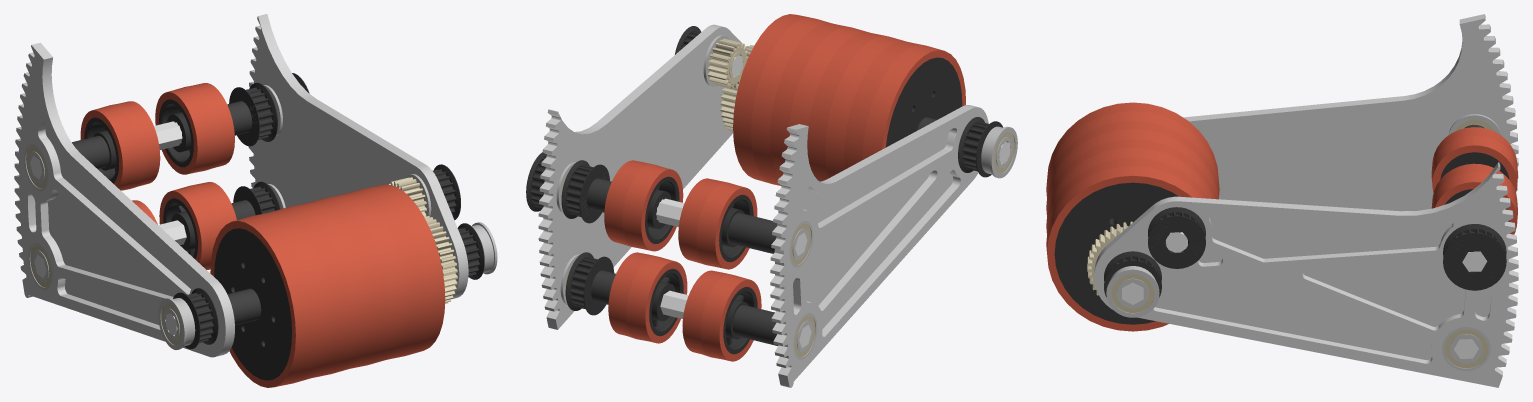
The picture shows the model from 3 angles, left to right: view 1: azimuth 30°, elevation 25°; view 2: azimuth 150°, elevation 25°; view 3: azimuth 270°, elevation 25°; orthographic projection.
Parts seen in each view (by area): view 1: 4" Stealth Wheel (40A, 1/2" Hex Bore) (×4), Left Shooter Moving Plate, Right Shooter Moving Plate, 2" Stealth Wheel (40A, 1/2" Hex Bore) (×3), 1/2" Hex Bore Bearing (1.125" OD, 0.313" WD, Shielded, Flang (×4), 19t Custom HTD 5mm Pulley (0.375" Wide, *0.5" Hex Bore) (×3), 20t Custom HTD 5mm Pulley (0.375" Wide, *0.5" Hex Bore) (×2), 40t Aluminum Spur Gear (20 DP, 1/2" Hex Bore), 1/2" Hex Bore Custom Spacer (0.75" OD,0.938" L), 1/2" Hex (7" L, 7075 Aluminum), 1/2" Hex Bore Custom Spacer (0.75" OD,1.438" L), 1/2" Hex Bore Custom Spacer (0.75" OD,0.813" L) (+2 smaller); view 2: Left Shooter Moving Plate, 4" Stealth Wheel (40A, 1/2" Hex Bore) (×4), 2" Stealth Wheel (40A, 1/2" Hex Bore) (×4), Right Shooter Moving Plate, 20t Custom HTD 5mm Pulley (0.375" Wide, *0.5" Hex Bore) (×2), 1/2" Hex Bore Custom Spacer (0.75" OD,1.438" L) (×2), 1/2" Hex Bore Bearing (1.125" OD, 0.313" WD, Shielded, Flang (×3), 19t Custom HTD 5mm Pulley (0.375" Wide, *0.5" Hex Bore), 20t Aluminum Spur Gear (20 DP, 1/2" Hex Bore), 1/2" Hex Bore Custom Spacer (0.75" OD,0.813" L) (×2), 1/2" Hex (7" L, 7075 Aluminum), 1/2" Hex (6.5" L, 7075 Aluminum) (+2 smaller); view 3: Right Shooter Moving Plate, Left Shooter Moving Plate, 4" Stealth Wheel (40A, 1/2" Hex Bore) (×4), 2" Stealth Wheel (40A, 1/2" Hex Bore) (×2), 1/2" Hex Bore Bearing (1.125" OD, 0.313" WD, Shielded, Flang (×3), 19t Custom HTD 5mm Pulley (0.375" Wide, *0.5" Hex Bore) (×2), 21t Custom HTD 5mm Pulley (0.375" Wide, 1/2" Hex Bore w/ TTB, 40t Aluminum Spur Gear (20 DP, 1/2" Hex Bore).
Boxes of the visible parts, bbox=[...] form: 4" Stealth Wheel (40A, 1/2" Hex Bore) (×4): bbox=[210, 184, 445, 387]; Left Shooter Moving Plate: bbox=[14, 42, 234, 357]; Right Shooter Moving Plate: bbox=[248, 14, 468, 299]; 2" Stealth Wheel (40A, 1/2" Hex Bore) (×3): bbox=[80, 83, 236, 269]; 1/2" Hex Bore Bearing (1.125" OD, 0.313" WD, Shielded, Flang (×4): bbox=[24, 144, 497, 349]; 19t Custom HTD 5mm Pulley (0.375" Wide, *0.5" Hex Bore) (×3): bbox=[173, 164, 484, 349]; 20t Custom HTD 5mm Pulley (0.375" Wide, *0.5" Hex Bore) (×2): bbox=[229, 82, 280, 214]; 40t Aluminum Spur Gear (20 DP, 1/2" Hex Bore): bbox=[424, 215, 457, 303]; 1/2" Hex Bore Custom Spacer (0.75" OD,0.938" L): bbox=[227, 288, 261, 325]; 1/2" Hex (7" L, 7075 Aluminum): bbox=[30, 121, 182, 179]; 1/2" Hex Bore Custom Spacer (0.75" OD,1.438" L): bbox=[72, 136, 109, 168]; 1/2" Hex Bore Custom Spacer (0.75" OD,0.813" L): bbox=[227, 101, 252, 135]; Left Shooter Moving Plate: bbox=[770, 105, 988, 387]; 4" Stealth Wheel (40A, 1/2" Hex Bore) (×4): bbox=[733, 14, 965, 185]; 2" Stealth Wheel (40A, 1/2" Hex Bore) (×4): bbox=[604, 160, 761, 361]; Right Shooter Moving Plate: bbox=[538, 24, 744, 329]; 20t Custom HTD 5mm Pulley (0.375" Wide, *0.5" Hex Bore) (×2): bbox=[561, 160, 614, 315]; 1/2" Hex Bore Custom Spacer (0.75" OD,1.438" L) (×2): bbox=[728, 213, 778, 345]; 1/2" Hex Bore Bearing (1.125" OD, 0.313" WD, Shielded, Flang (×3): bbox=[789, 126, 1017, 359]; 19t Custom HTD 5mm Pulley (0.375" Wide, *0.5" Hex Bore): bbox=[958, 117, 1003, 177]; 20t Aluminum Spur Gear (20 DP, 1/2" Hex Bore): bbox=[707, 38, 748, 88]; 1/2" Hex Bore Custom Spacer (0.75" OD,0.813" L) (×2): bbox=[587, 178, 615, 304]; 1/2" Hex (7" L, 7075 Aluminum): bbox=[656, 198, 807, 255]; 1/2" Hex (6.5" L, 7075 Aluminum): bbox=[660, 290, 811, 347]; Right Shooter Moving Plate: bbox=[1094, 162, 1518, 387]; Left Shooter Moving Plate: bbox=[1183, 14, 1518, 211]; 4" Stealth Wheel (40A, 1/2" Hex Bore) (×4): bbox=[1046, 102, 1219, 331]; 2" Stealth Wheel (40A, 1/2" Hex Bore) (×2): bbox=[1431, 127, 1517, 234]; 1/2" Hex Bore Bearing (1.125" OD, 0.313" WD, Shielded, Flang (×3): bbox=[1106, 114, 1500, 370]; 19t Custom HTD 5mm Pulley (0.375" Wide, *0.5" Hex Bore) (×2): bbox=[1104, 207, 1205, 297]; 21t Custom HTD 5mm Pulley (0.375" Wide, 1/2" Hex Bore w/ TTB: bbox=[1443, 224, 1506, 290]; 40t Aluminum Spur Gear (20 DP, 1/2" Hex Bore): bbox=[1087, 221, 1132, 295].
Size of the model in its own units: 0.2127 by 0.1666 by 0.2769.
